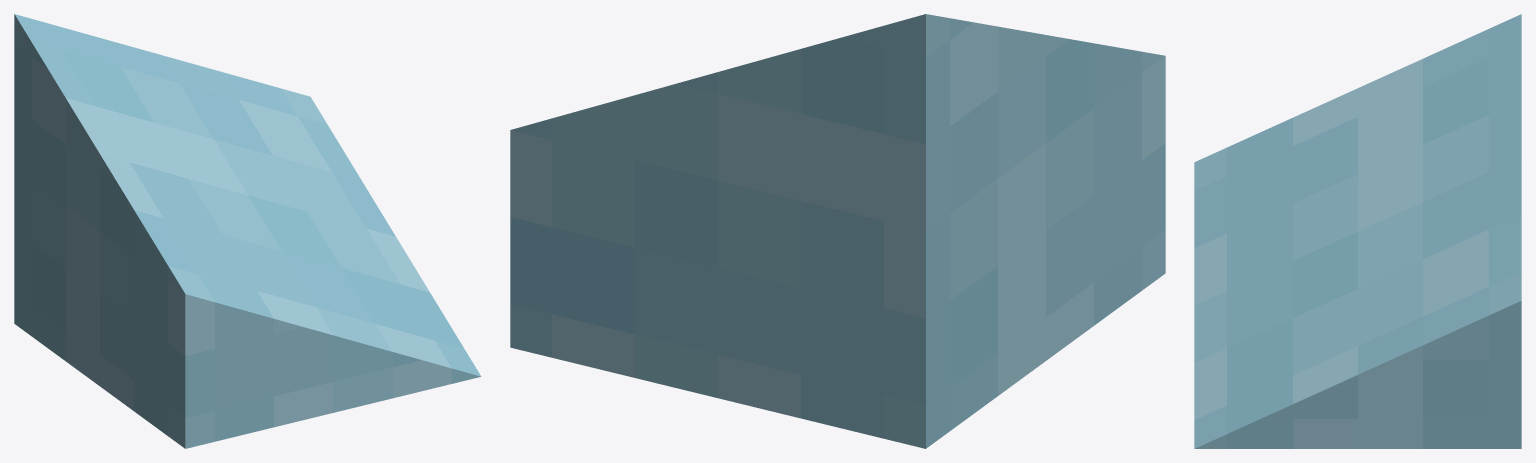
Rendered from Ice_OuterCorner.glb.
3 views of the same model, side by side, from view 1: azimuth 30°, elevation 25°; view 2: azimuth 150°, elevation 25°; view 3: azimuth 270°, elevation 25° (orthographic). The views are drawn at different scales.
Parts seen in each view (by area): view 1: Ice_OuterCorner_body; view 2: Ice_OuterCorner_body; view 3: Ice_OuterCorner_body.
Boxes of the visible parts, bbox=[...] form: Ice_OuterCorner_body: bbox=[14, 14, 481, 448]; Ice_OuterCorner_body: bbox=[510, 14, 1165, 448]; Ice_OuterCorner_body: bbox=[1194, 14, 1521, 448].
Bounding box in the file's own units: 1 × 1 × 1.
1 material, 1 textured.
